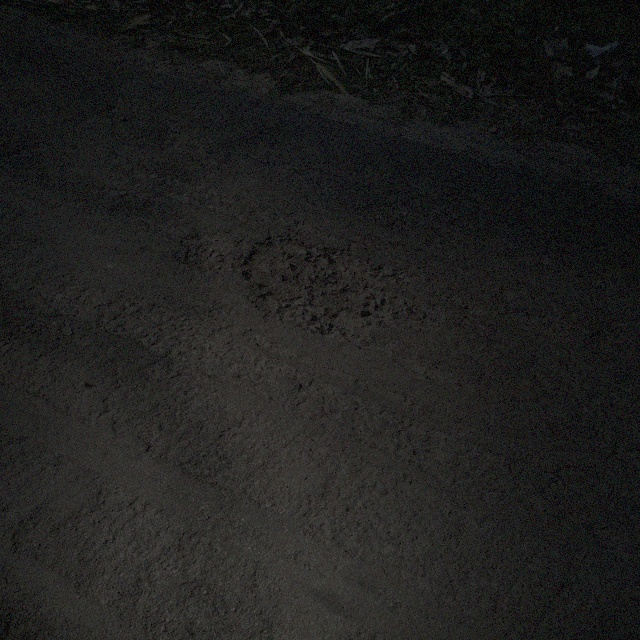pothole: (239, 229, 418, 346)
